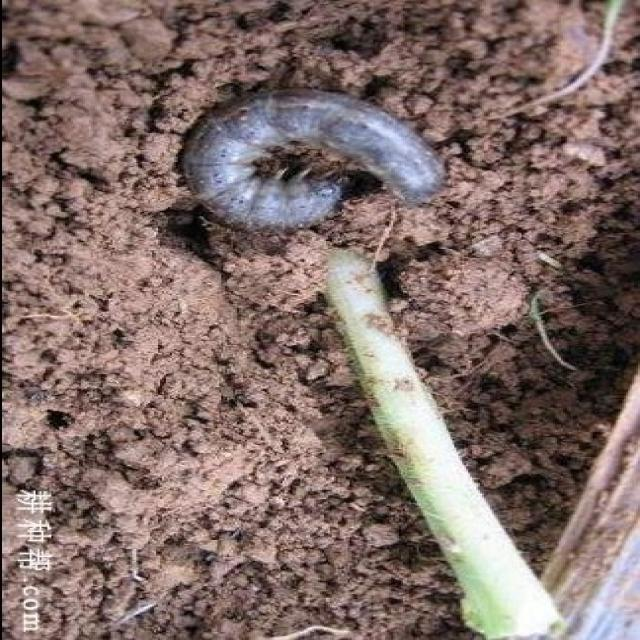black cutworm: (190, 83, 445, 243)
